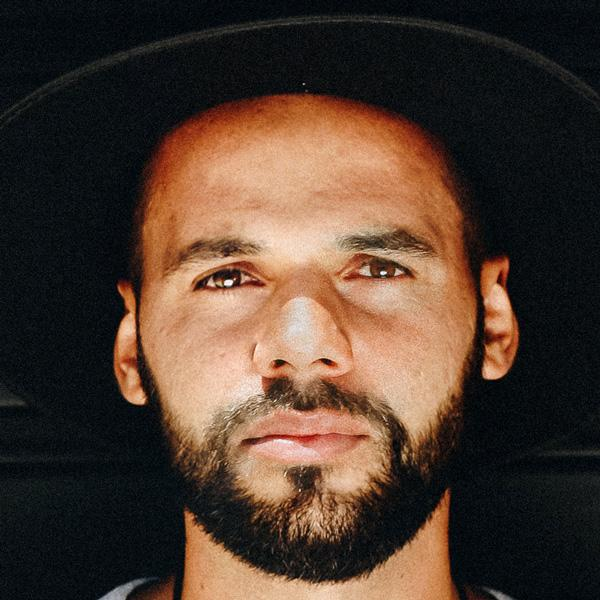Eyes: (182, 252, 273, 308), (332, 242, 422, 295)
